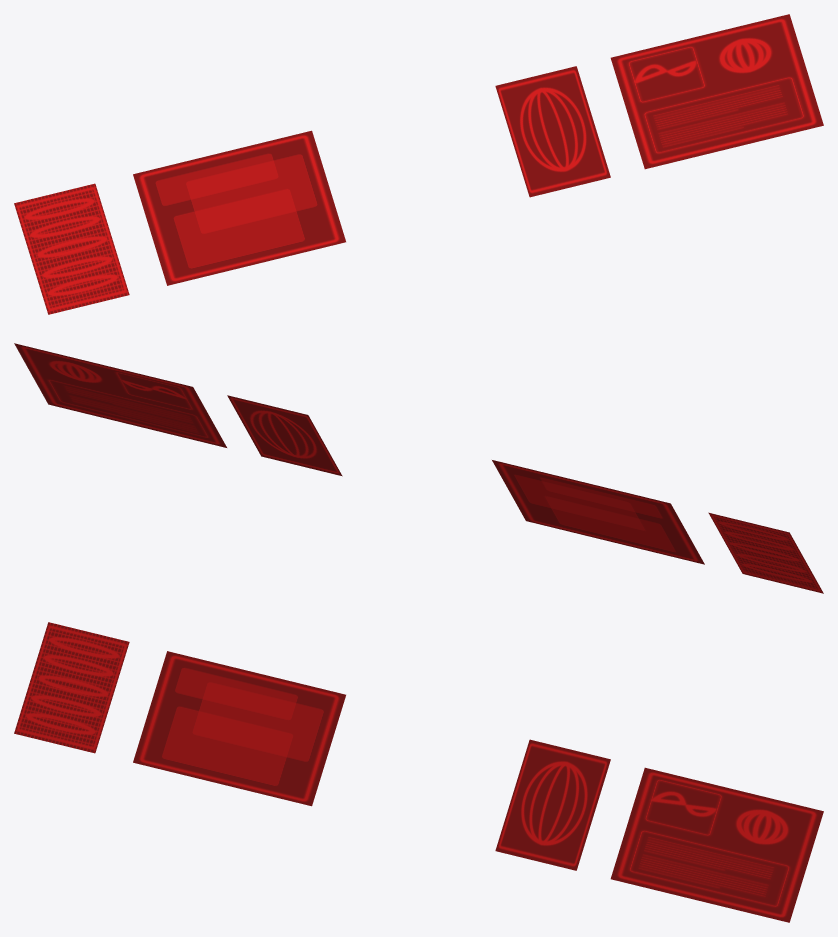
Rendered from Reactor_Screens.fbx.
3 views of the same model, one above another, from view 1: azimuth 30°, elevation 25°; view 2: azimuth 150°, elevation 25°; view 3: azimuth 330°, elevation 25° (orthographic).
Visible parts, largest first — view 1: Reactor_Screens; view 2: Reactor_Screens; view 3: Reactor_Screens.
Boxes of the visible parts, box(x1,y1,x2,y2) form: Reactor_Screens: box(14, 14, 823, 314); Reactor_Screens: box(14, 343, 823, 593); Reactor_Screens: box(14, 622, 823, 922).
Size of the model in its own units: 1325 by 141 by 102.
